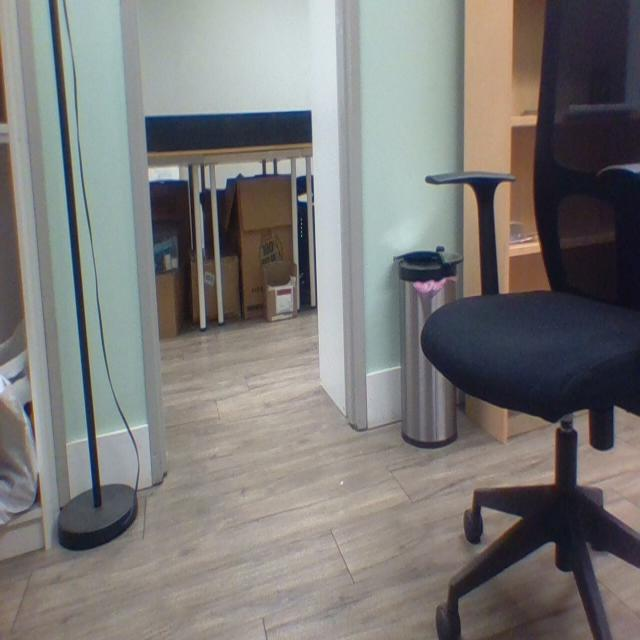black-chair: (422, 0, 640, 639)
